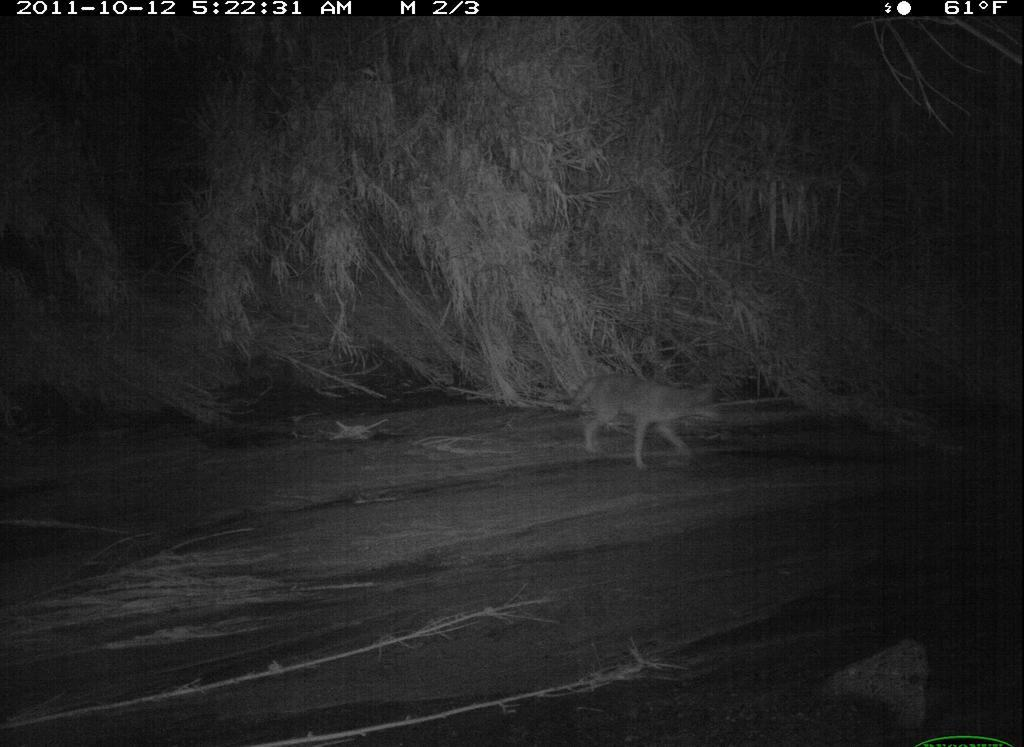coyote: (566, 372, 733, 482)
